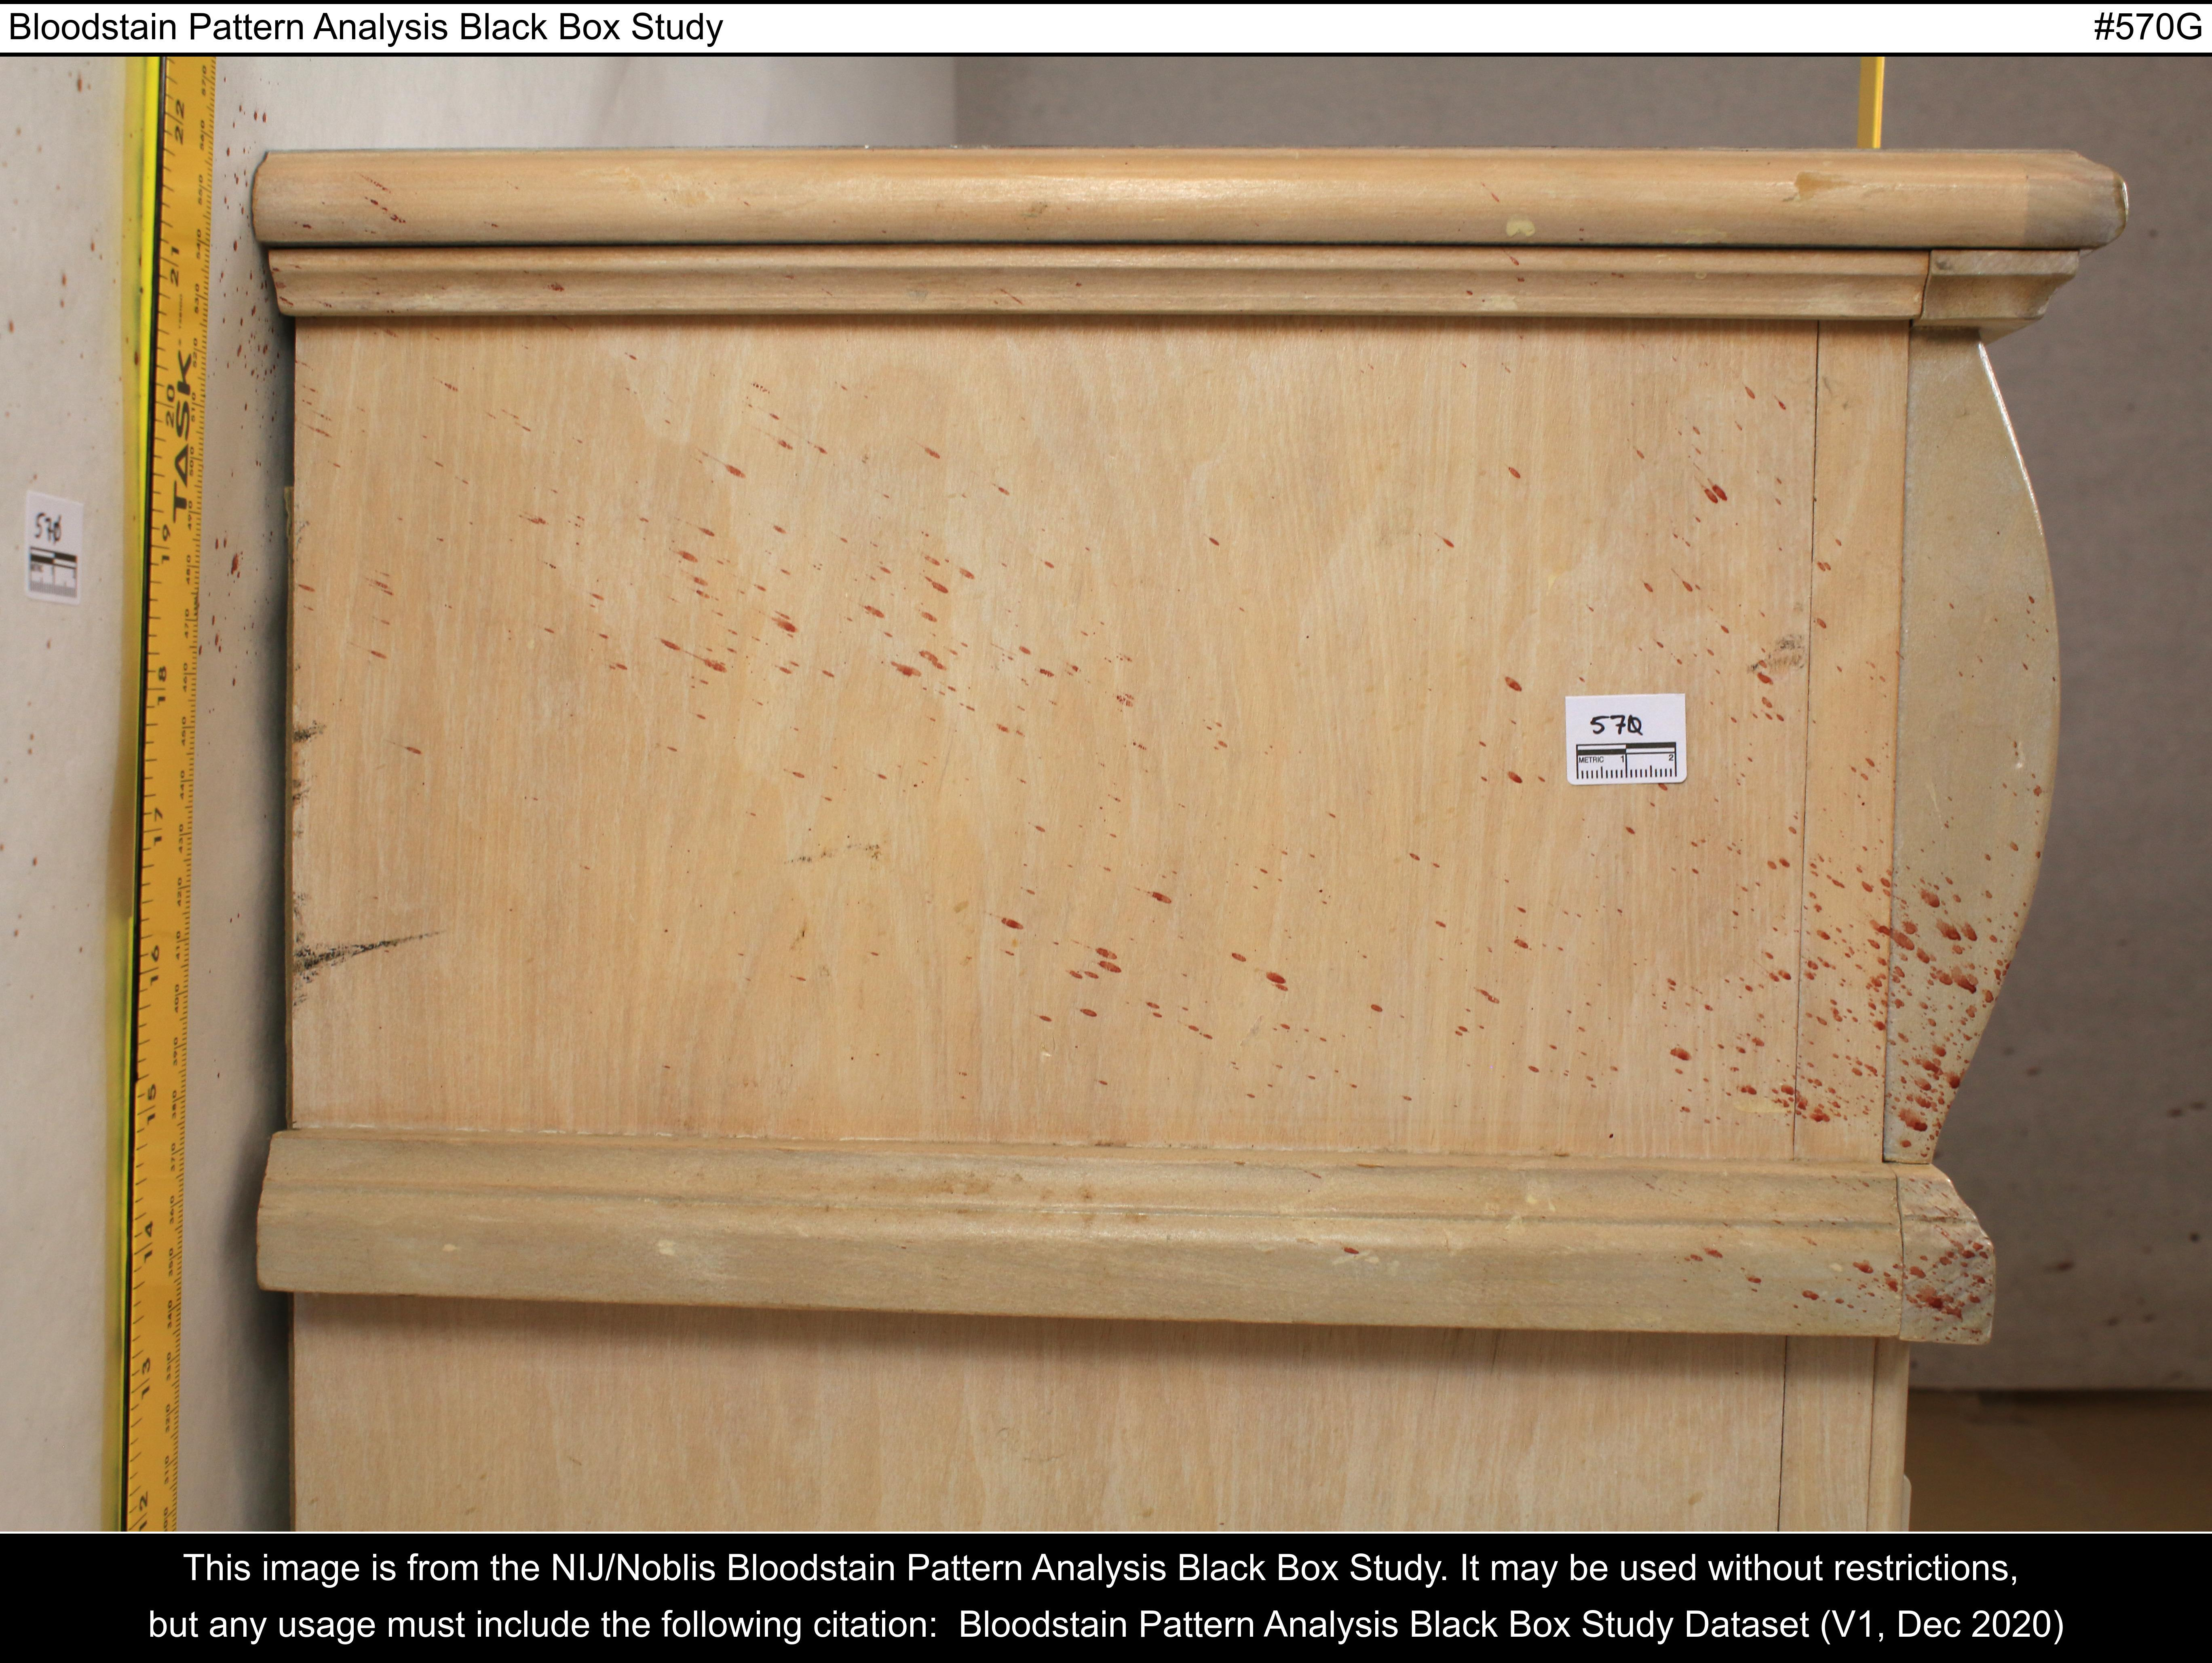Impact: (300, 355, 2067, 1363)
